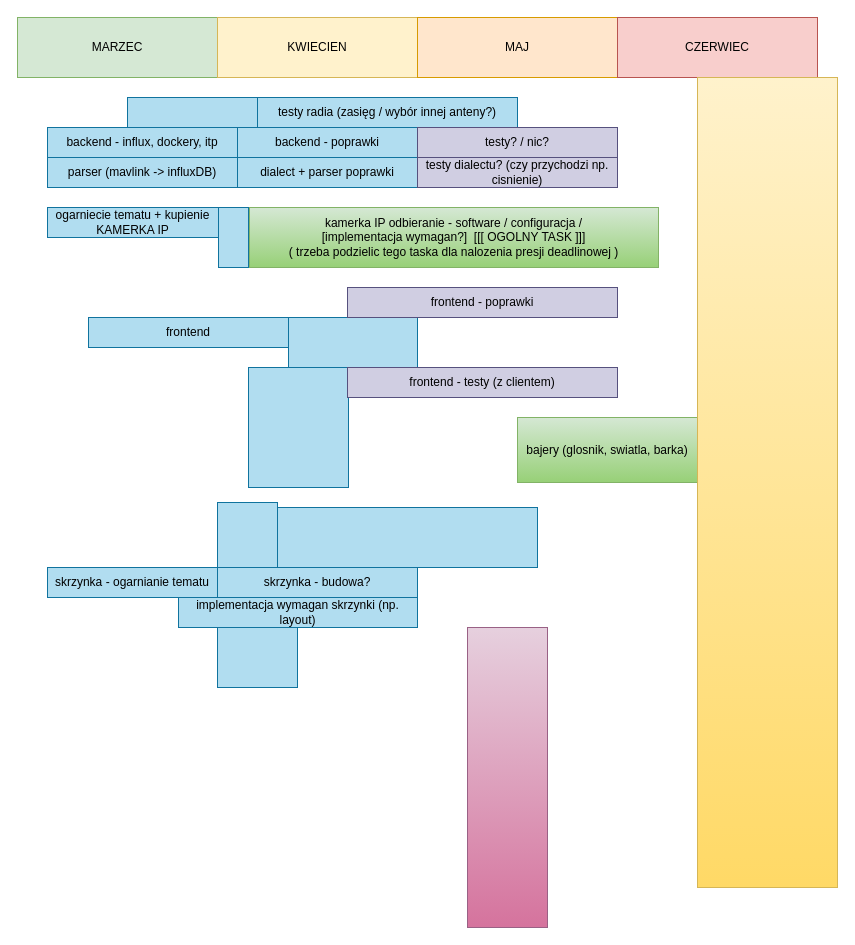
This 855x945 diagram has some shape labels left out. Each missing label, with the centre of its shape:
"(frontend) implementacja wymagań" goes at (353,342).
"(FRONTEND) wymagania z innych dzialów" goes at (298,427).
"elektronika w rakiecie gotowa?" goes at (247,535).
"kamerka decyzja" goes at (233,237).
"skrzynka - design" goes at (257,657).
"skrzynka - testy" goes at (407,537).
"SPACEPORT AMERICA CUP - HERE WE GO - FIRST PLACE GUARANTEED" goes at (767,482).
"TESTY INTEGRACYJNE [w polu?] (całość)" goes at (507,777).
"znalezenie / kupienie radia" goes at (192,112).
